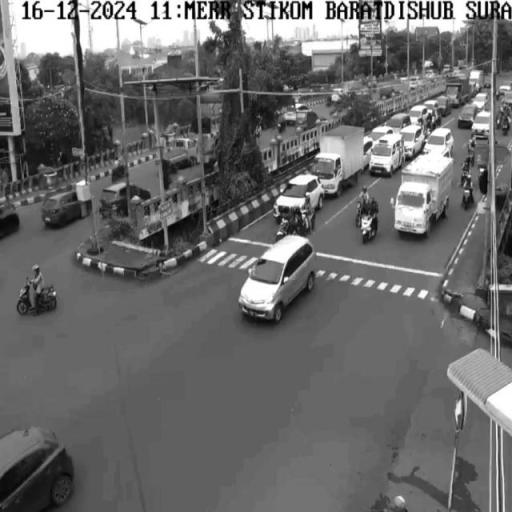car: (237, 239, 314, 322), (38, 196, 93, 226)
motorcycle: (18, 283, 66, 315), (359, 209, 380, 242), (462, 185, 476, 212)
truck: (398, 150, 454, 241), (308, 130, 368, 194)
